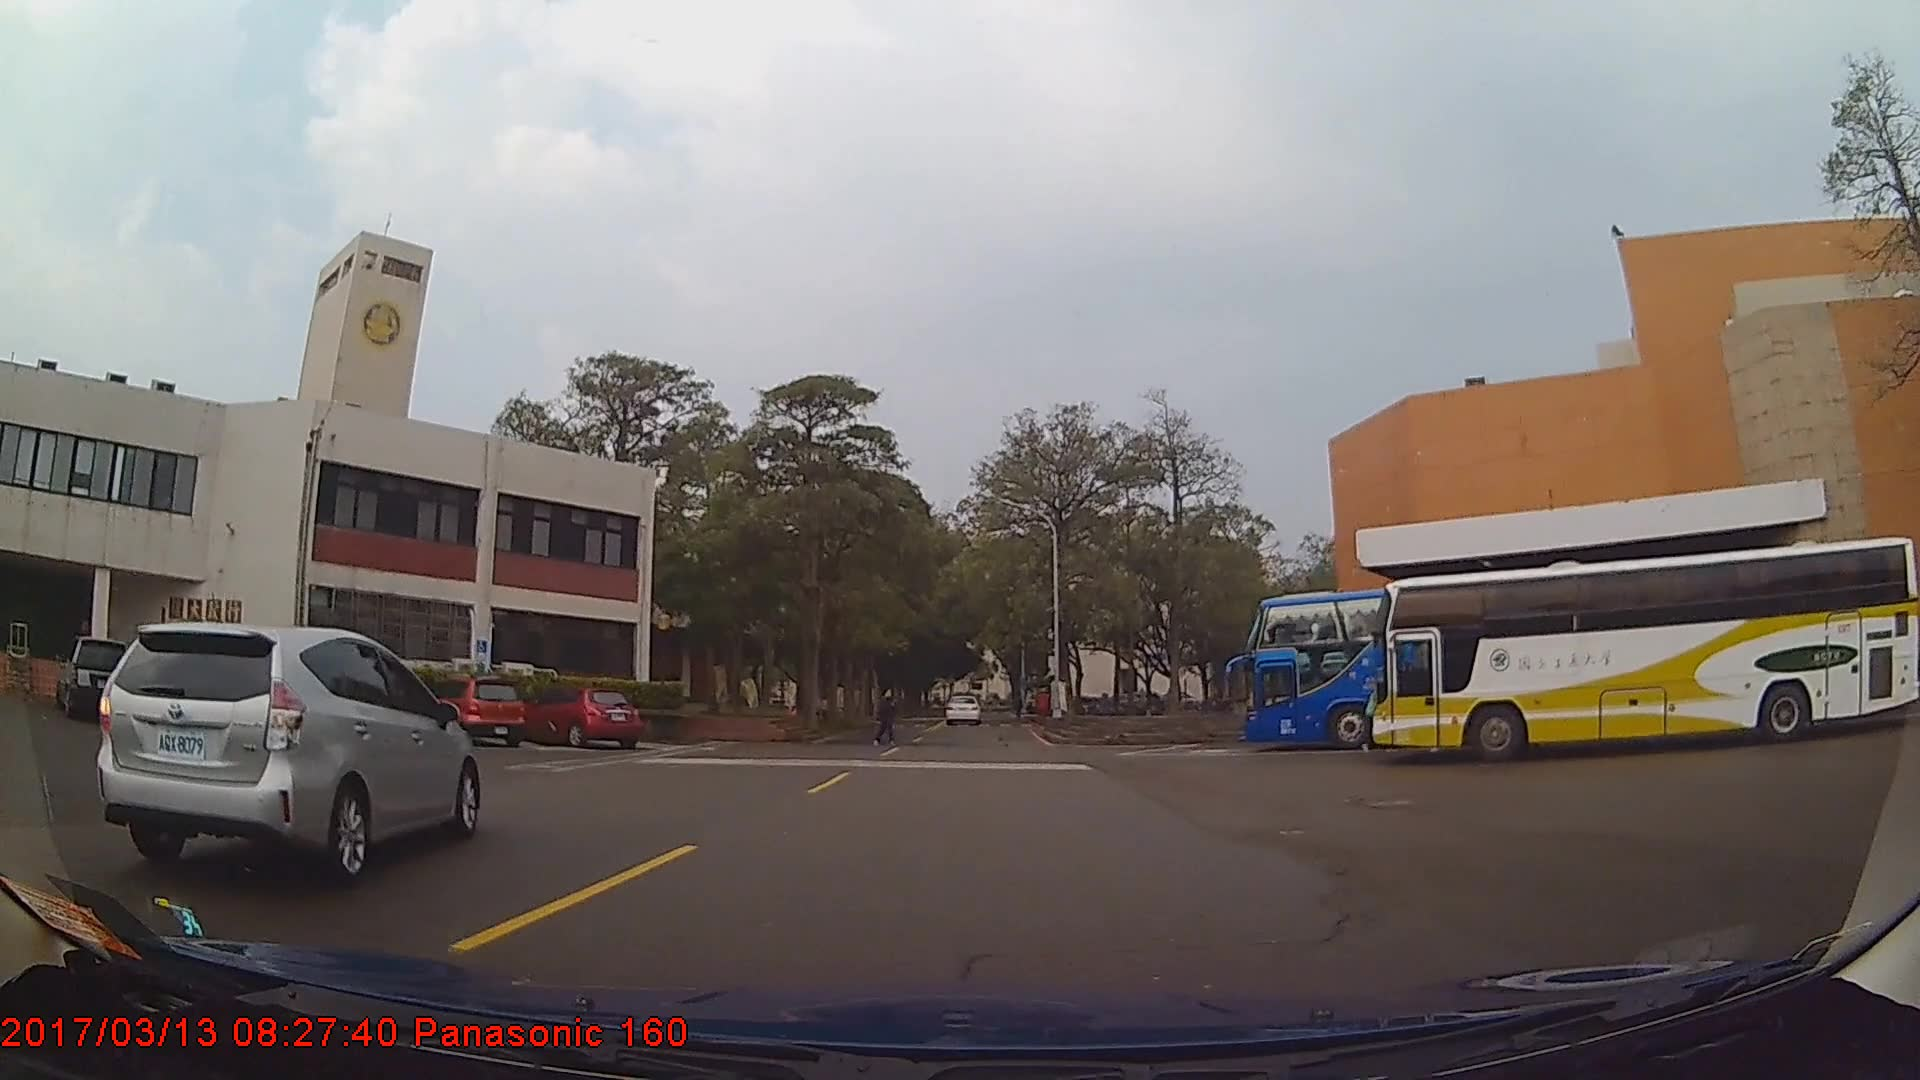pedestrian: (877, 687, 897, 747)
vehicle: (1370, 536, 1919, 764), (97, 621, 480, 874), (1241, 586, 1774, 755), (517, 683, 642, 749), (54, 635, 139, 720), (427, 675, 524, 745), (945, 693, 981, 726)
